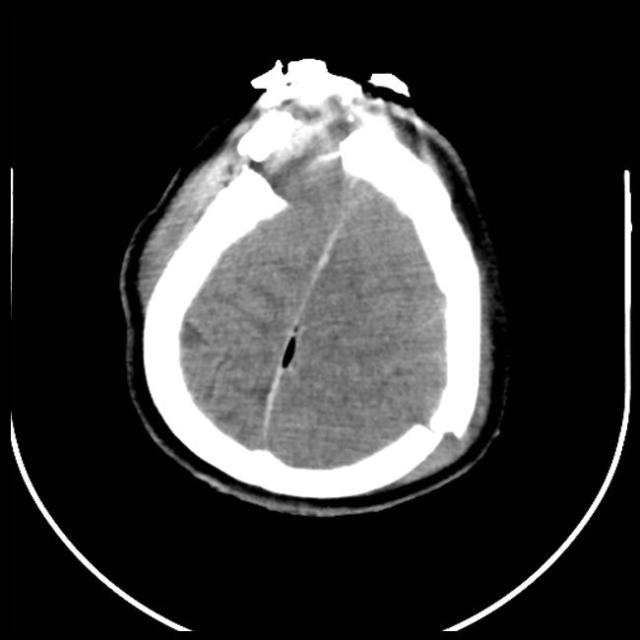lesion: (116, 54, 513, 516)
